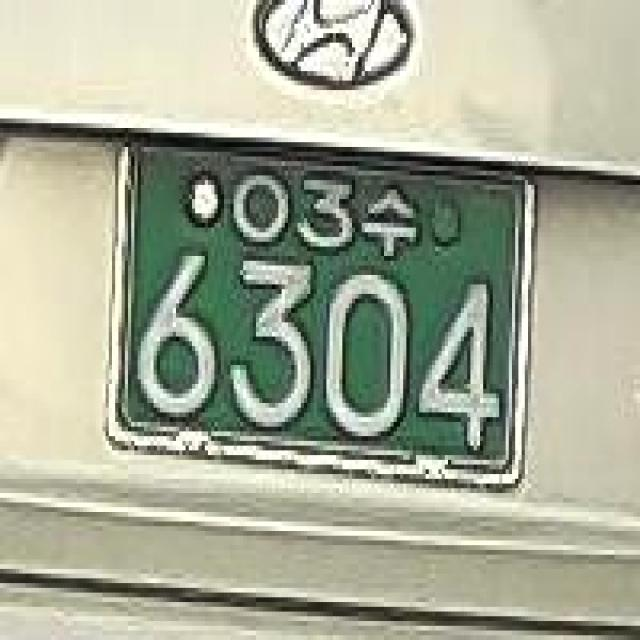illegal_plate: (92, 113, 548, 511)
